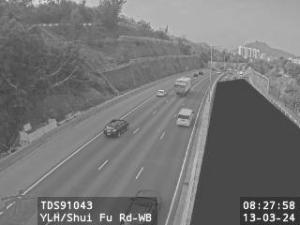bus: (174, 76, 192, 96)
truck: (174, 76, 192, 96)
vehicle: (120, 191, 164, 225), (104, 119, 130, 137), (177, 109, 195, 128), (157, 90, 167, 96), (199, 72, 203, 74), (194, 74, 198, 76)
